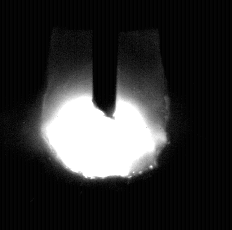arame: (93, 0, 118, 119)
poca: (39, 0, 166, 230)
